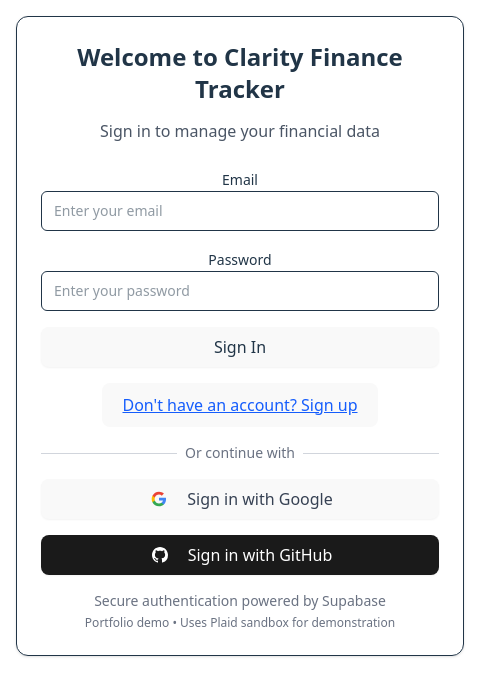
Test: Login Component › Loading States › shows loading state during authentication
The image size is (481, 674).
Type "test@example.com" into the field labelled "Email". click: (240, 211)
box: [41,191,439,231]
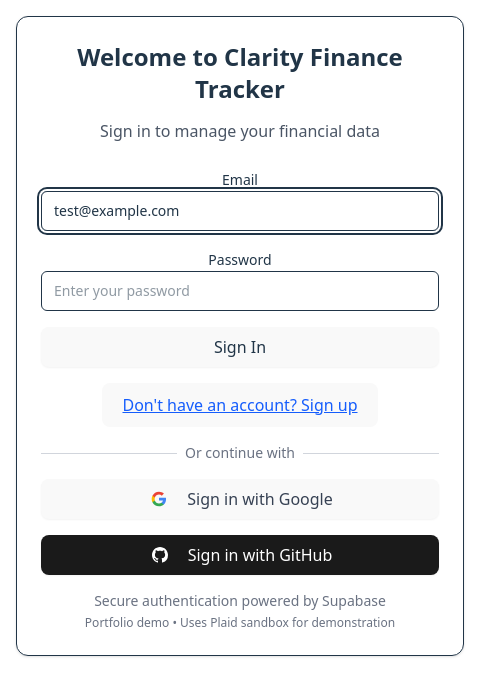
Type "password123" into the password field labelled "Password". click: (240, 291)
box: [41,271,439,311]
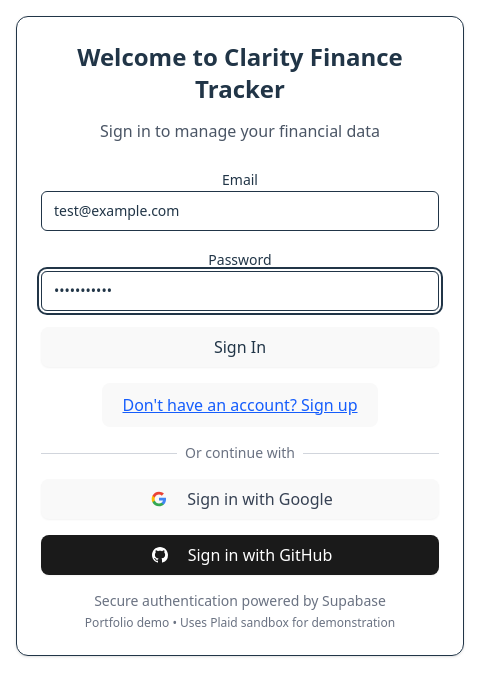
Click the button "Sign In". click: click(240, 347)
box: [41,327,439,367]
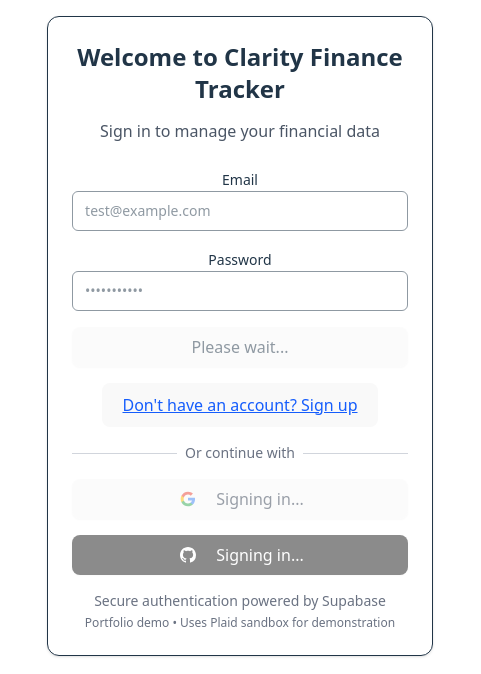
Expected: the button "Please wait..." is disabled, [72,327,408,367]
Expected: the field labelled "Email" is disabled, [72,191,408,231]
Expected: the password field labelled "Password" is disabled, [72,271,408,311]
